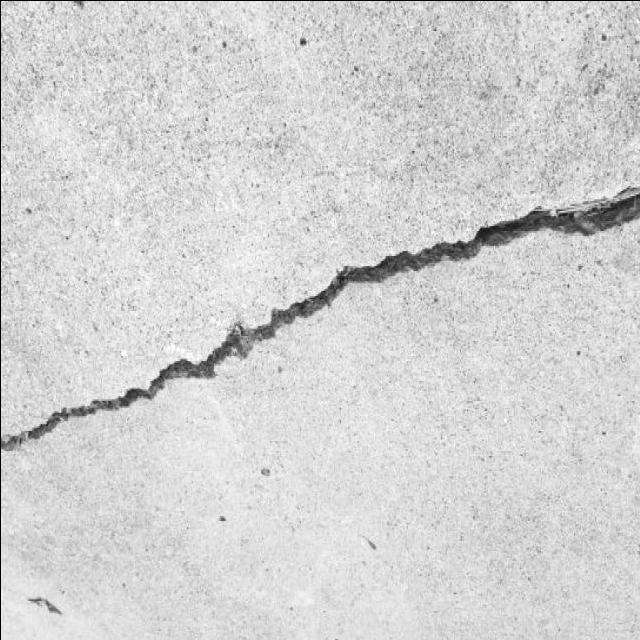SurfaceCrack: (0, 140, 639, 572)
